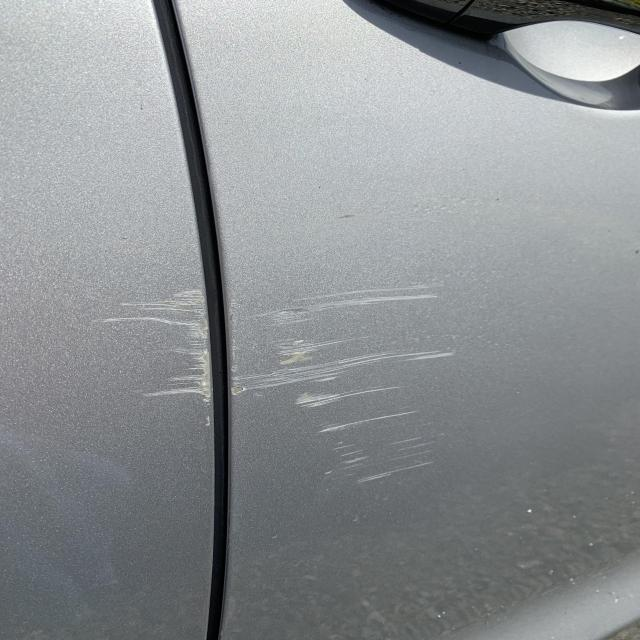scratch: (83, 282, 471, 485)
